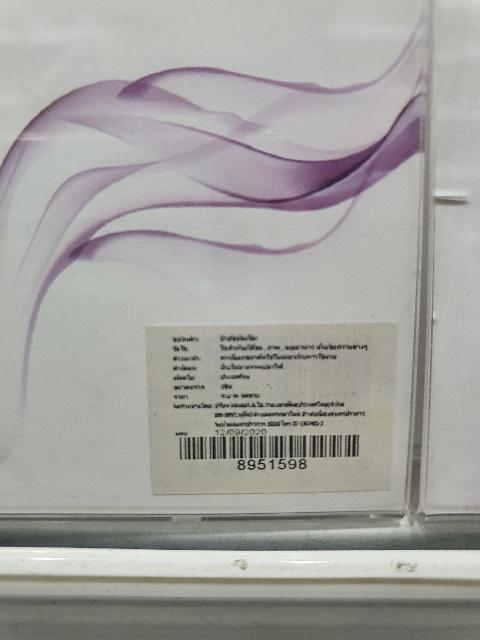Barcode: (171, 429, 370, 473)
